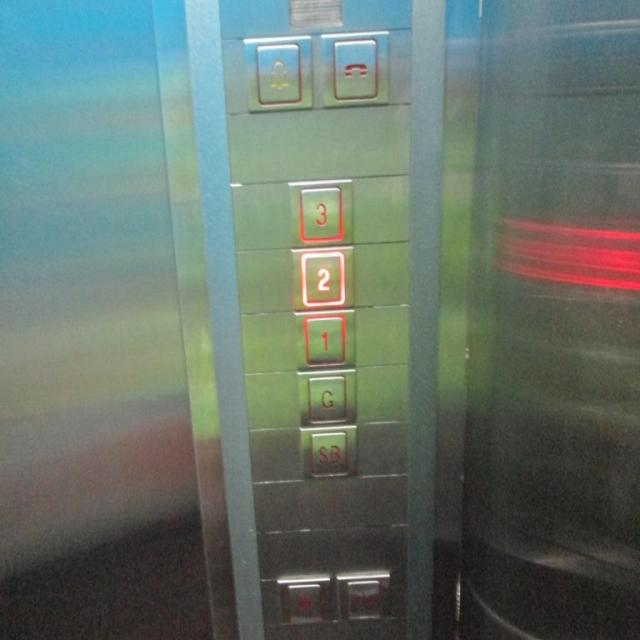1: (301, 312, 348, 368)
2: (297, 248, 347, 308)
3: (296, 181, 346, 245)
G: (305, 371, 349, 426)
SB: (307, 428, 350, 480)
alarm: (252, 38, 304, 108)
call: (328, 34, 381, 102)
close: (344, 576, 383, 622)
open: (280, 580, 326, 628)
